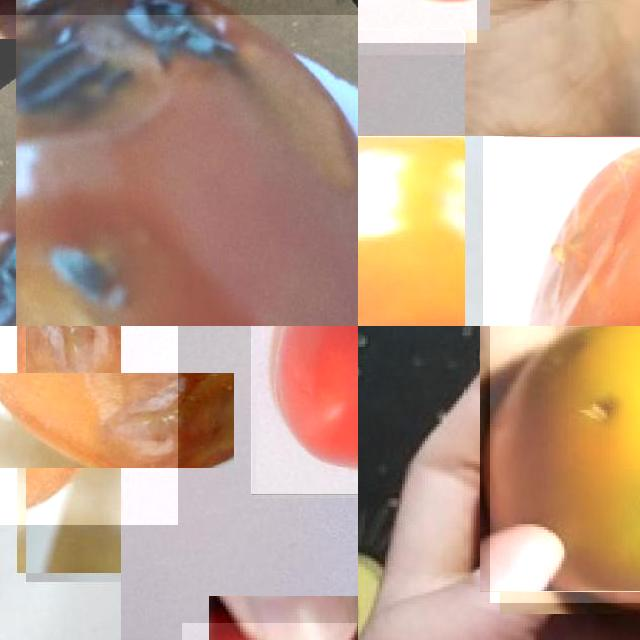1: (489, 326, 640, 603)
Fresh Tomato: (358, 136, 465, 326), (251, 326, 358, 494)
Rotten Tomato: (0, 15, 358, 326), (0, 326, 177, 525), (483, 136, 640, 326)
